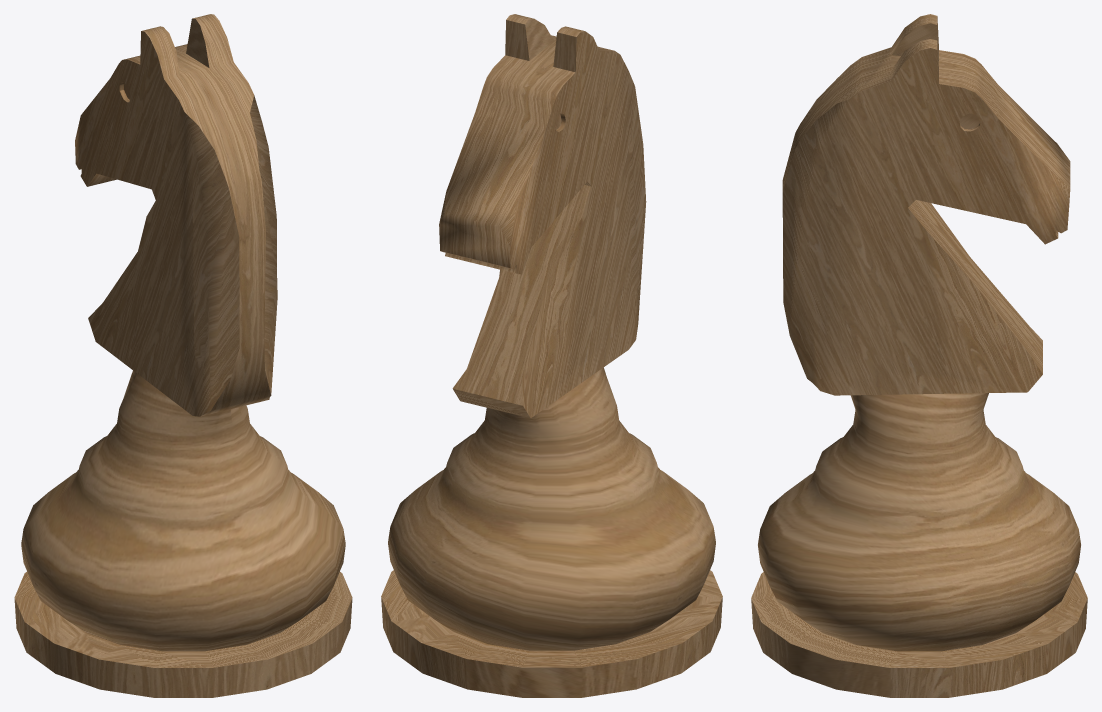
File: white_knight.obj
3 renders of one model, left to right at view 1: azimuth 30°, elevation 25°; view 2: azimuth 150°, elevation 25°; view 3: azimuth 270°, elevation 25°, orthographic.
Parts seen in each view (by area): view 1: knight_W1_Material_003_0.001; view 2: knight_W1_Material_003_0.001; view 3: knight_W1_Material_003_0.001.
Boxes of the visible parts, <box> form: knight_W1_Material_003_0.001: <box>14,14,352,697</box>; knight_W1_Material_003_0.001: <box>381,14,722,697</box>; knight_W1_Material_003_0.001: <box>751,14,1087,697</box>.
Size of the model in its own units: 2.63 by 5.31 by 2.67.
